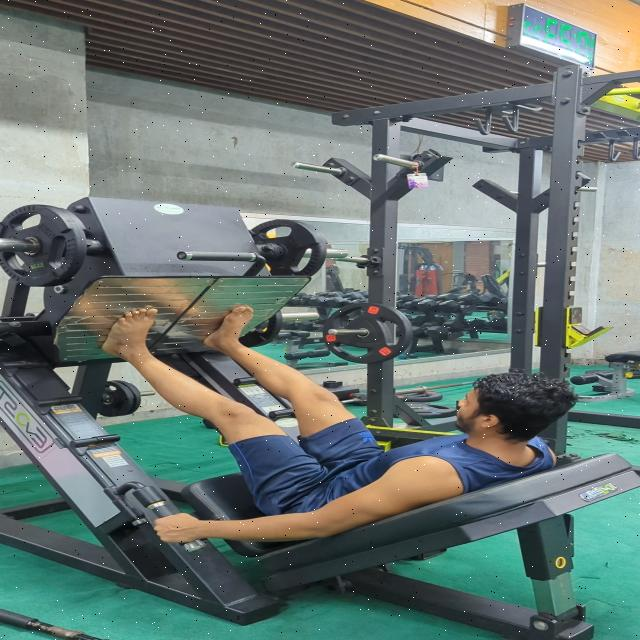Normal_LegPress: (77, 300, 596, 550)
